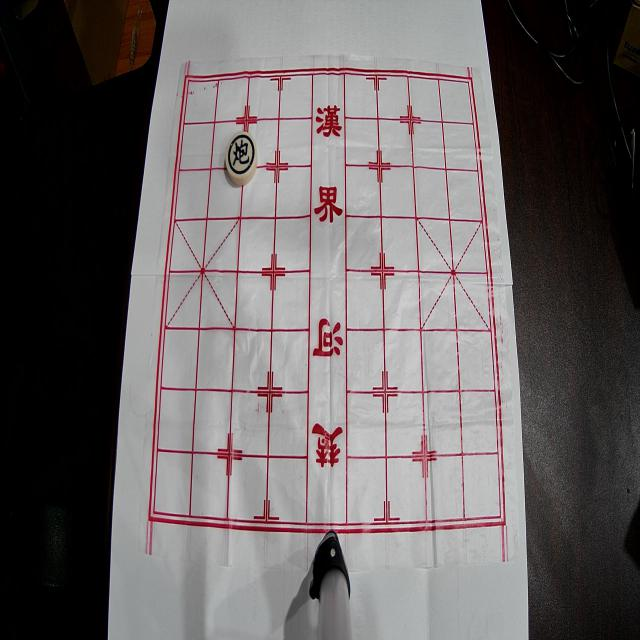black-cannon: (225, 132, 258, 186)
